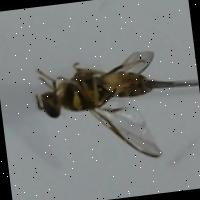Oriental-fruit-fly: (19, 28, 176, 187)
